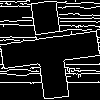I: (25, 25, 73, 46)
